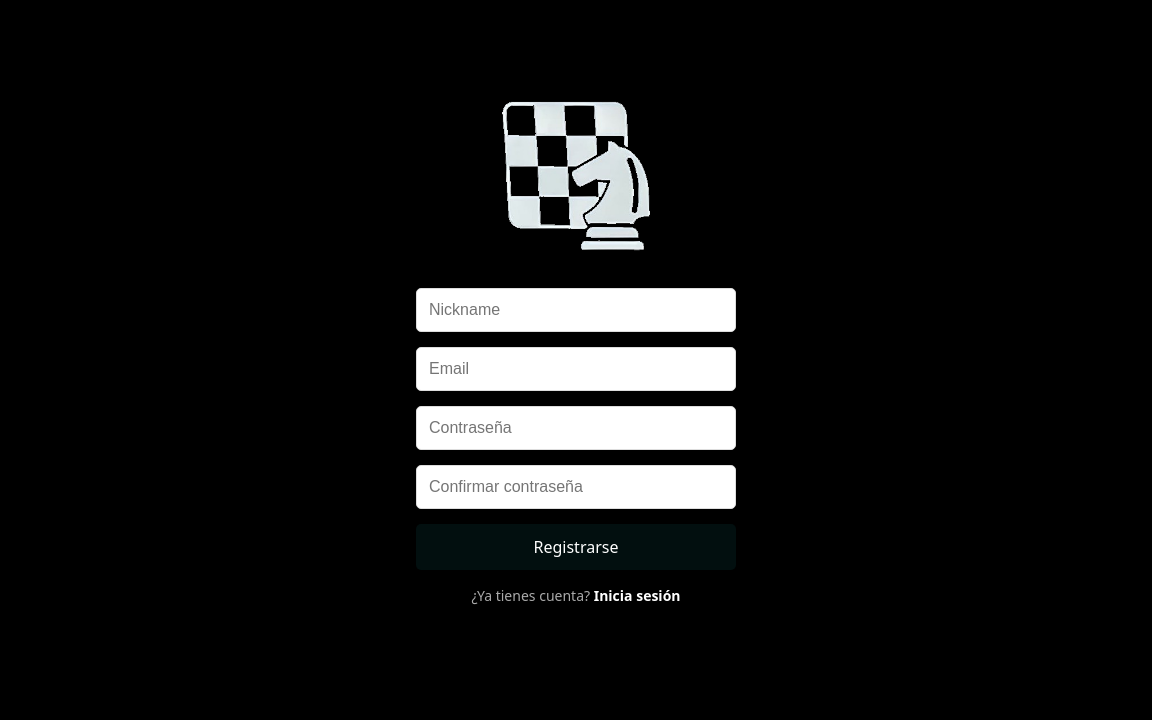
register_shows_error_if_email_invalid
Type "nick" into the field with placeholder "Nickname".
click(576, 310); type("nick")  # box x1=416 y1=288 x2=736 y2=332
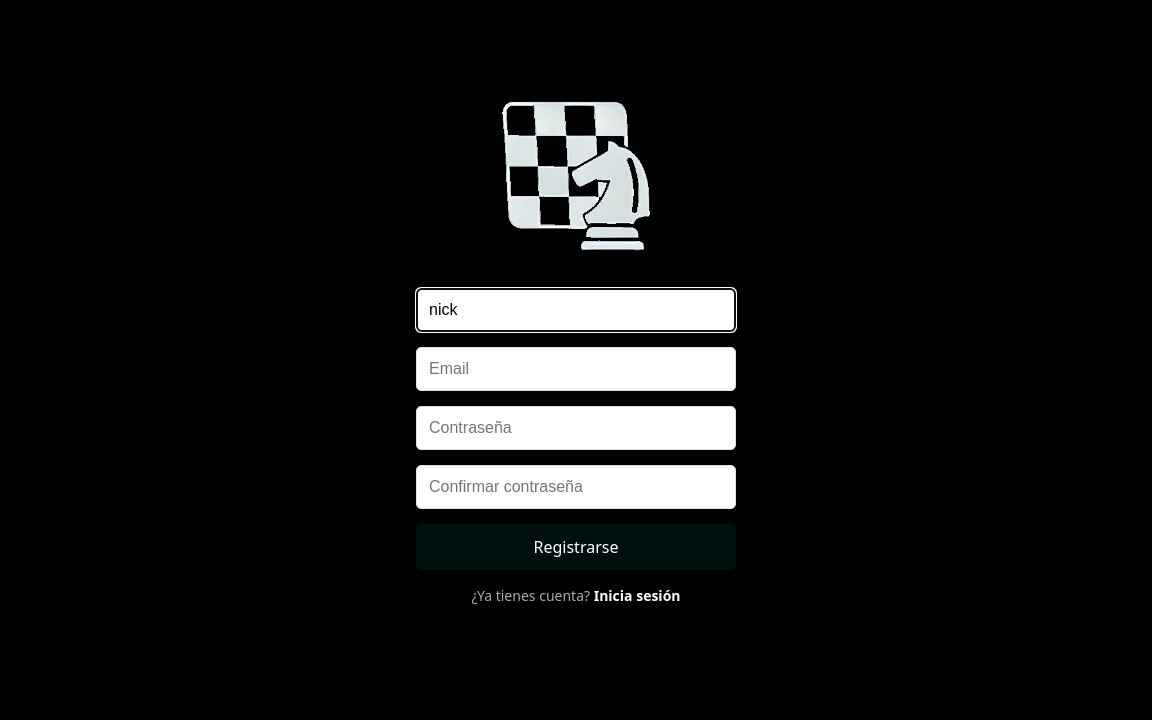
Type "notanemail" into the field with placeholder "Email".
click(576, 369); type("notanemail")  # box x1=416 y1=347 x2=736 y2=391
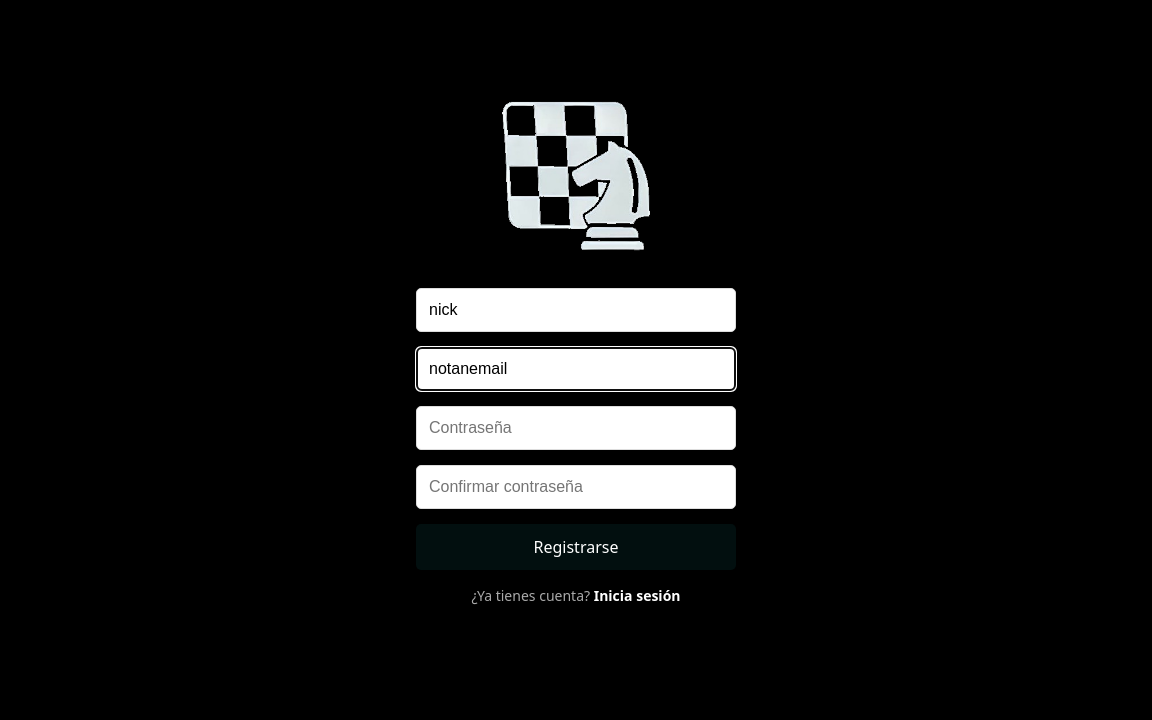
Type "Password1!" into the password field with placeholder "Contraseña".
click(576, 428); type("Password1!")  # box x1=416 y1=406 x2=736 y2=450
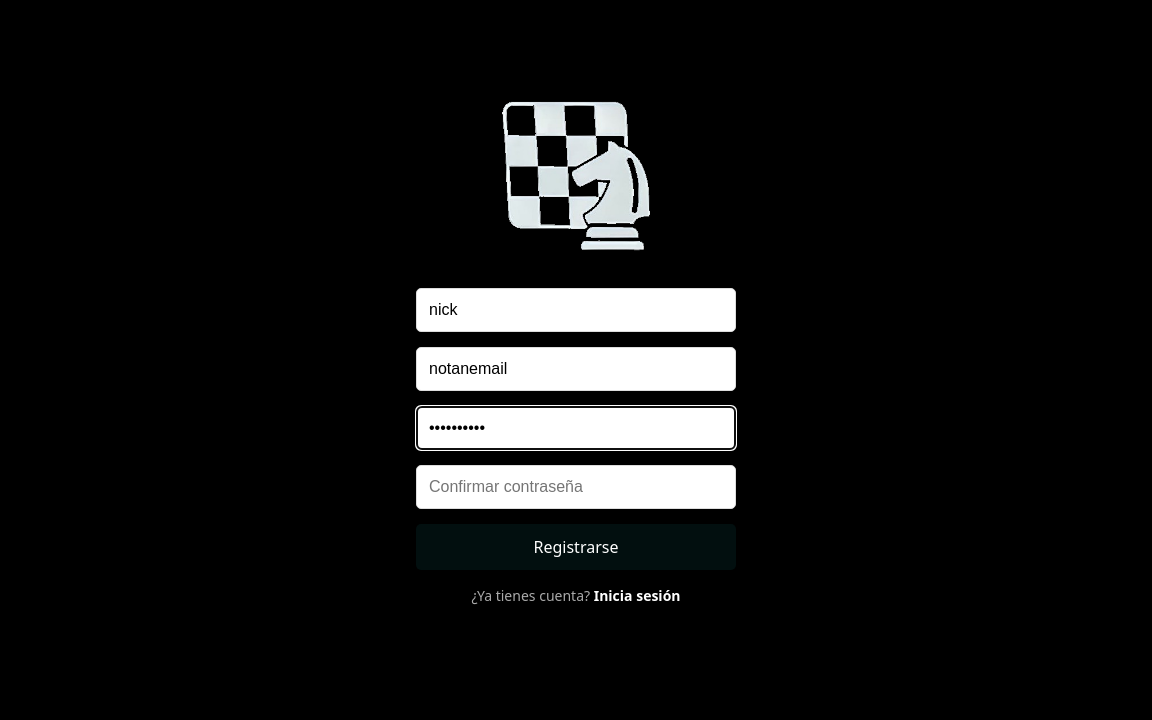
Type "Password1!" into the password field with placeholder "Confirmar contraseña".
click(576, 487); type("Password1!")  # box x1=416 y1=465 x2=736 y2=509
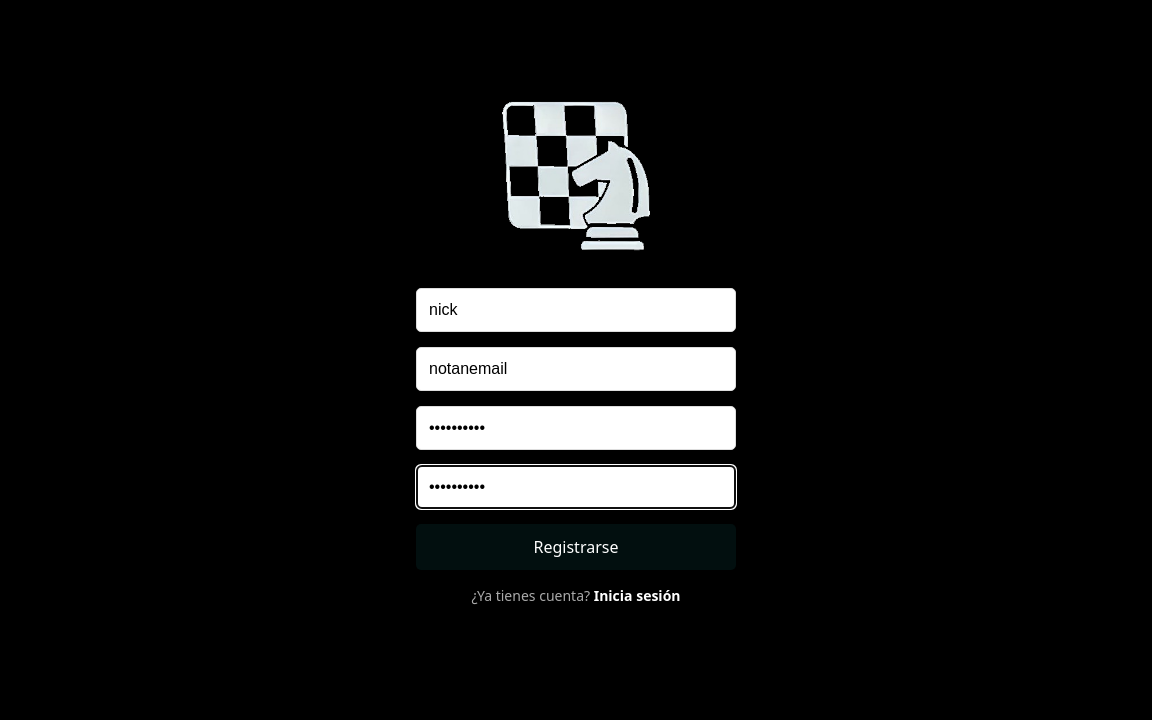
Click the button "Registrarse".
click(576, 547)  # box x1=416 y1=524 x2=736 y2=570
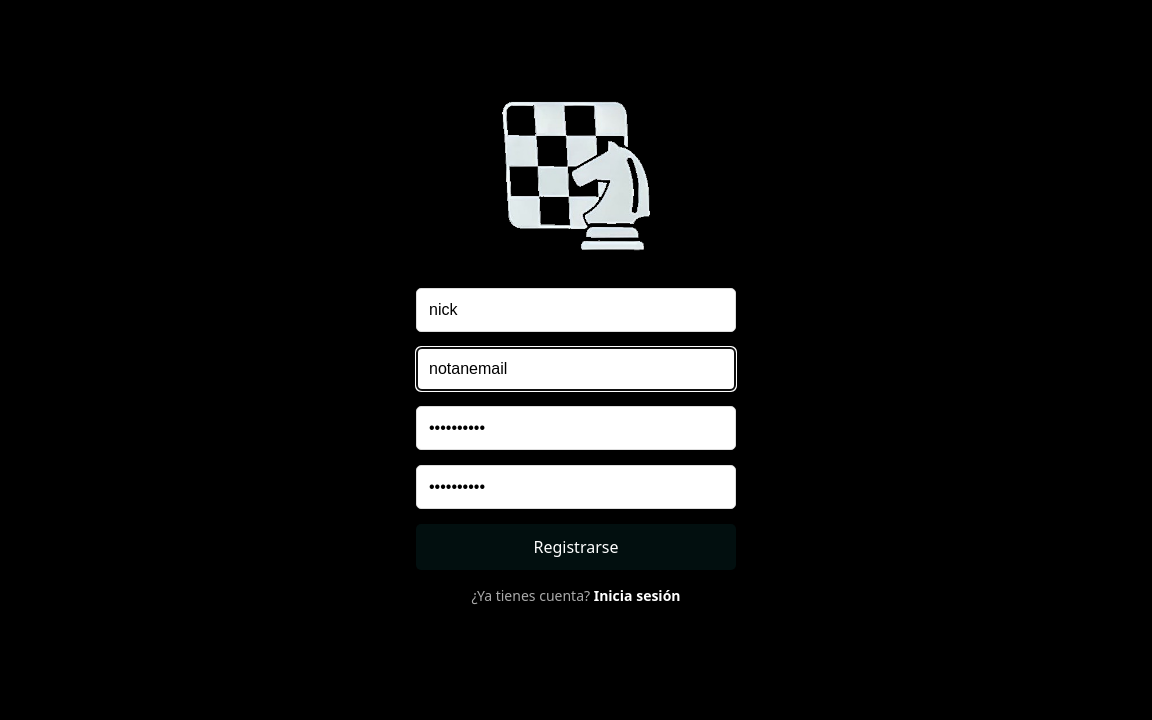
Submit the form named "register-form", box x1=416 y1=100 x2=736 y2=605
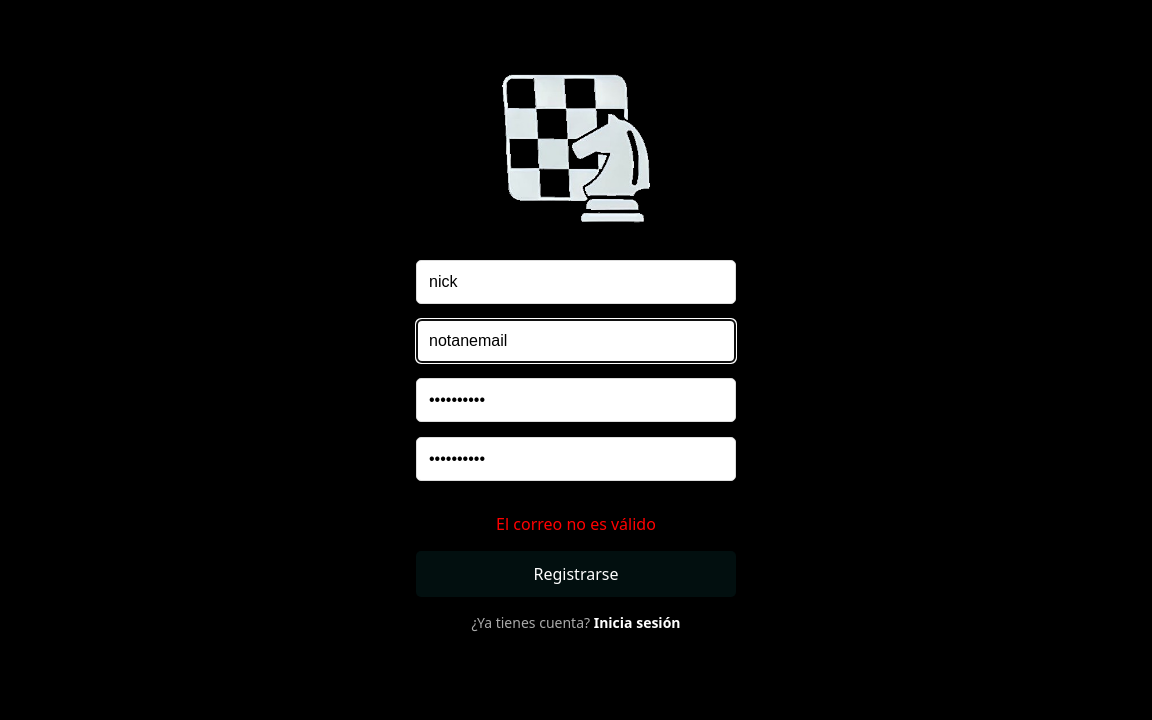
expect the text "El correo no es válido" is shown: met, box x1=496 y1=513 x2=656 y2=535
